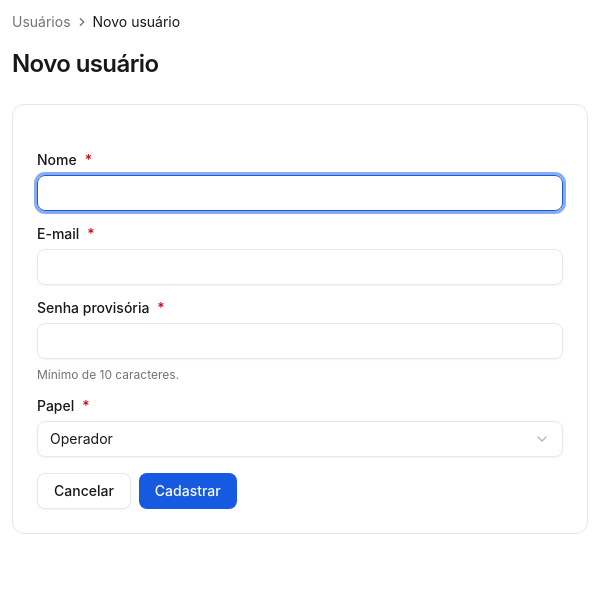
Test: UserNewPage › e-mail já cadastrado (409) preserva o formulário preenchido
Type "Pessoa Repetida" into the field labelled "Nome *" at (300, 193), box [37,175,563,211]
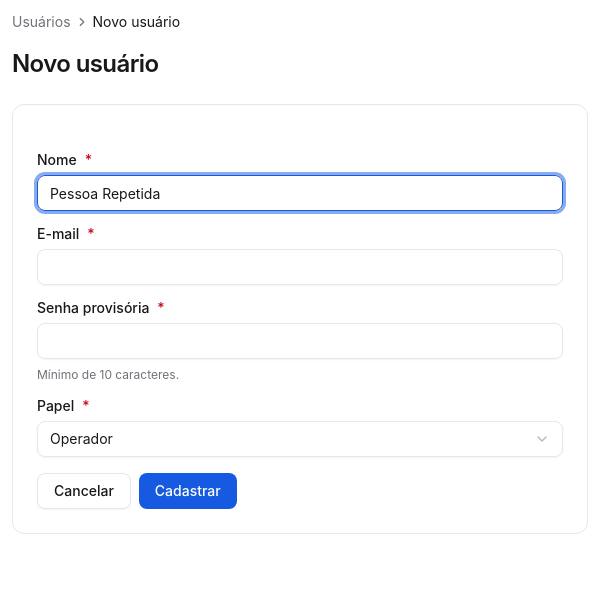
Type "repetido@x.com" into the field labelled "E-mail *" at (300, 267), box [37,249,563,285]
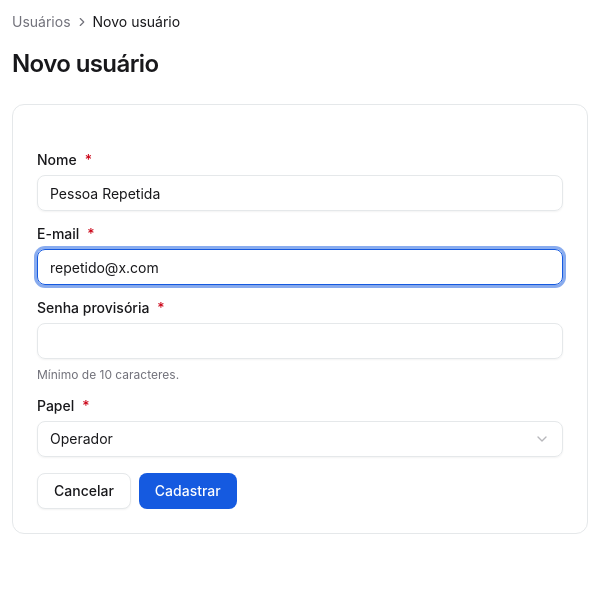
Type "senha-bem-grande" into the password field labelled "Senha provisória *" at (300, 341), box [37,323,563,359]
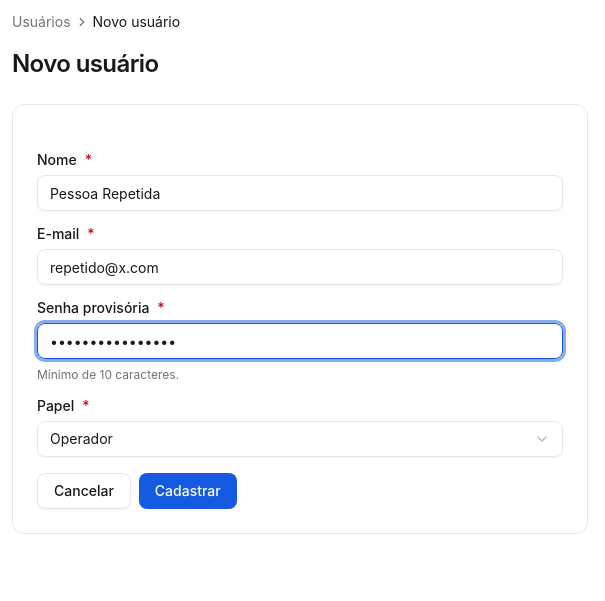
Click the button "Cadastrar" at (188, 491), box [139,473,237,509]
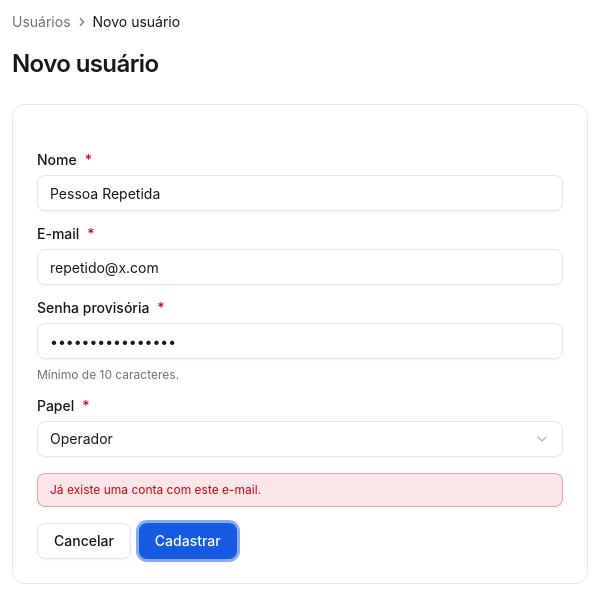
Expected: the text "Já existe uma conta com este e-mail." is shown, [37,473,563,507]
